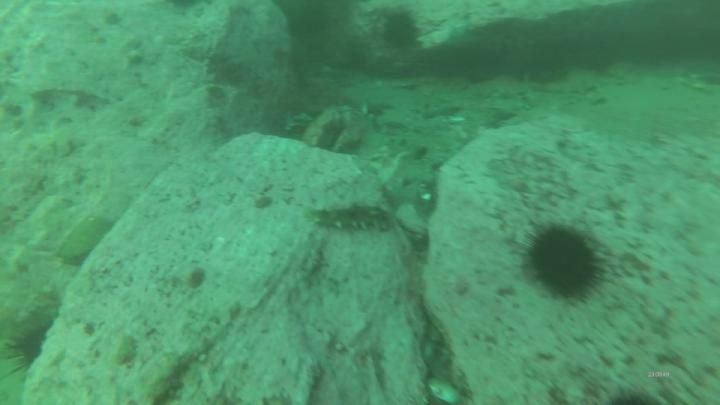echinus: (525, 226, 595, 296), (382, 14, 416, 46)
holothurian: (311, 207, 390, 232)
scallop: (428, 375, 461, 405)
